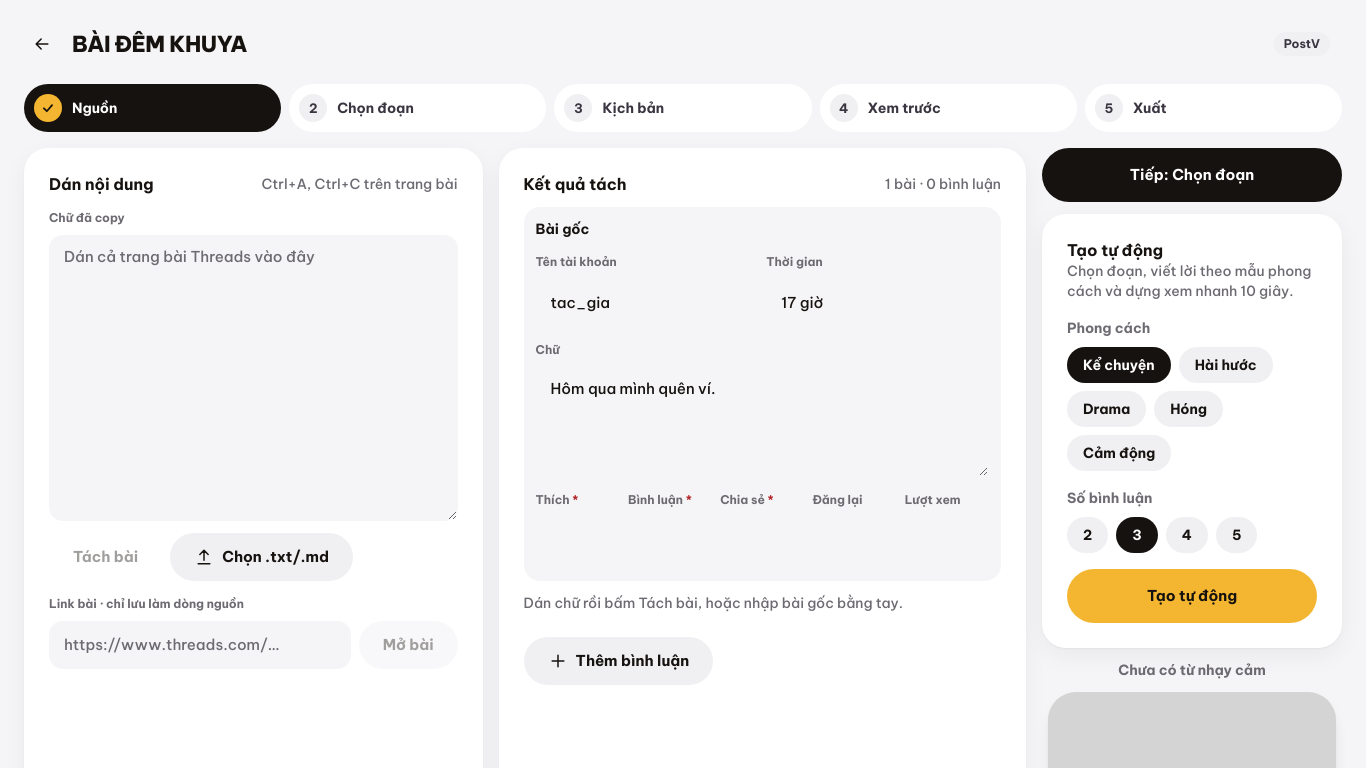
Test: Bước 1 · Nhập nguồn › shows the warnings and changes nothing when the text is not recognised
Type "xin chào" into the text box labelled "Chữ đã copy" at x=253, y=378, box [49,235,458,521]
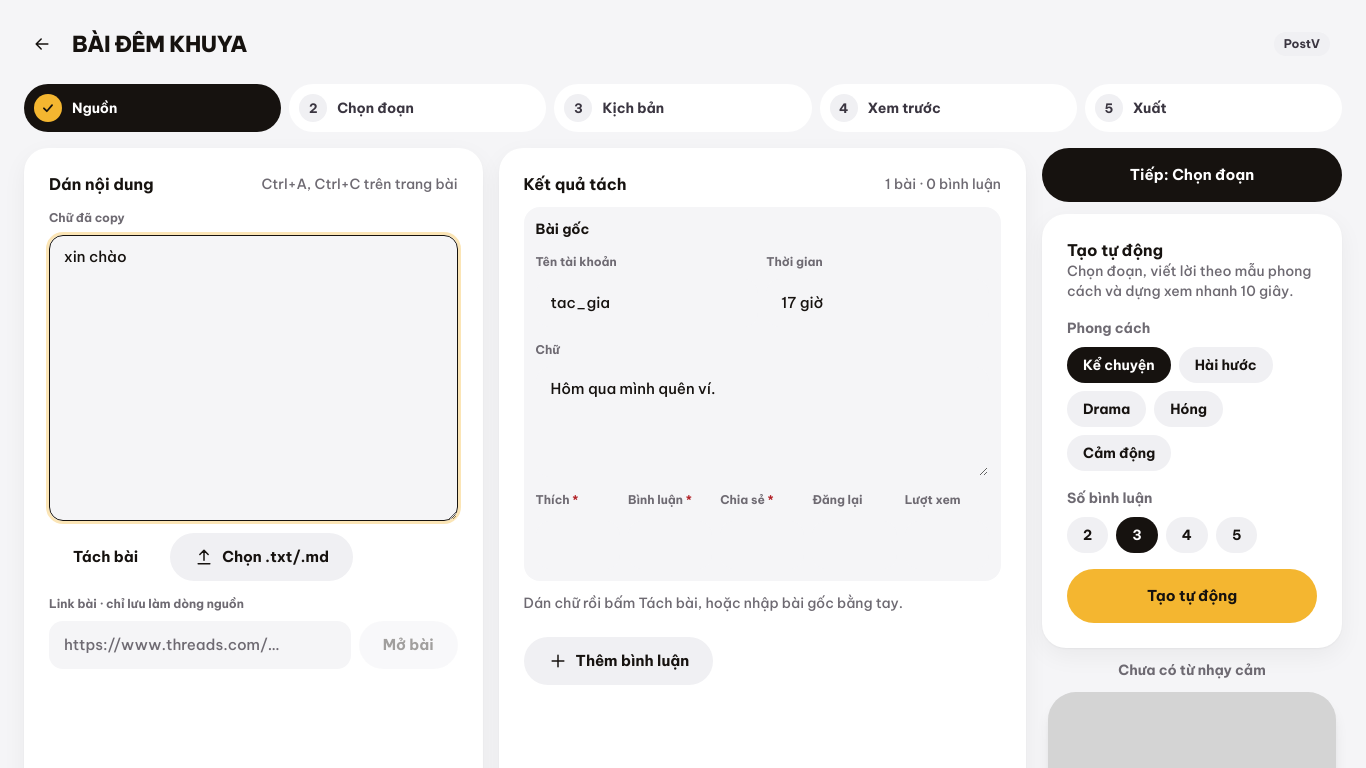
Click the button "Tách bài" at x=106, y=557, box [49,533,162,581]
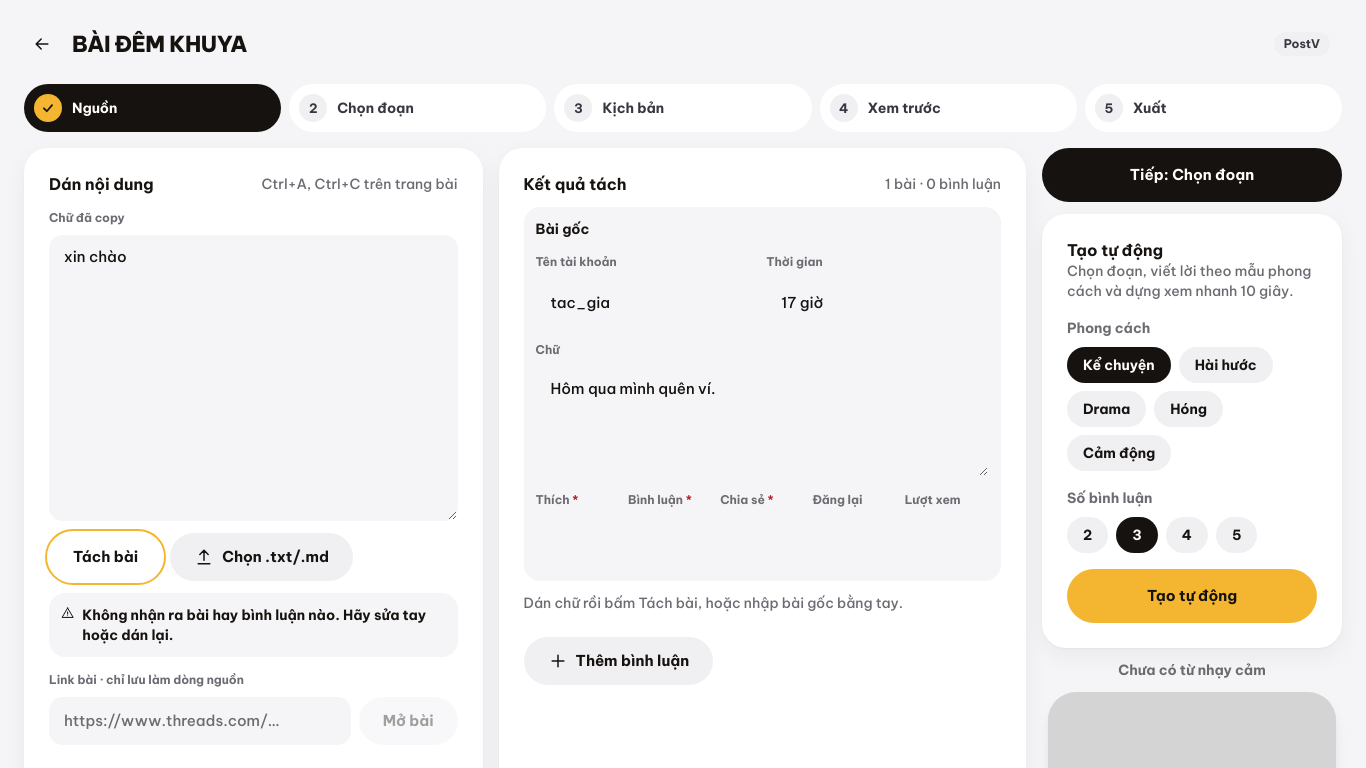
Check: the field labelled "Tên tài khoản" holds "tac_gia", box [536,279,758,327]
Check: the list item "Không nhận ra bài hay bình luận nào" is shown, box [82,606,426,644]
